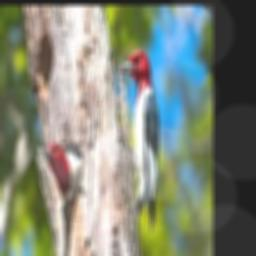Woodpecker: (119, 51, 160, 232), (43, 138, 84, 239)
